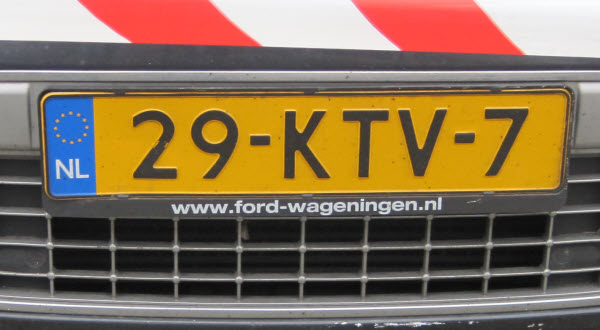plate: (43, 91, 567, 195)
